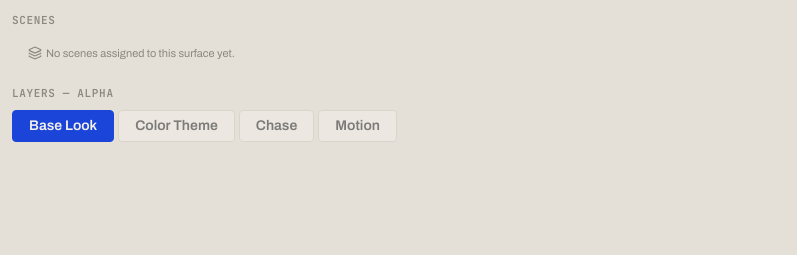
Test case: Launcher › surfaces a rejected layer toggle
The image size is (797, 255).
Check: the text "Layers — Alpha" is shown, box 12,86 -> 114,100
Click the button "Base Look" at (63, 126), box 12,110 -> 114,142
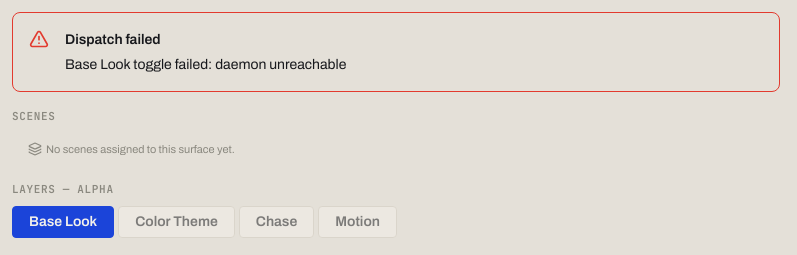
Check: the text "Base Look toggle failed: daemon unreachable" is shown, box 65,54 -> 346,75
